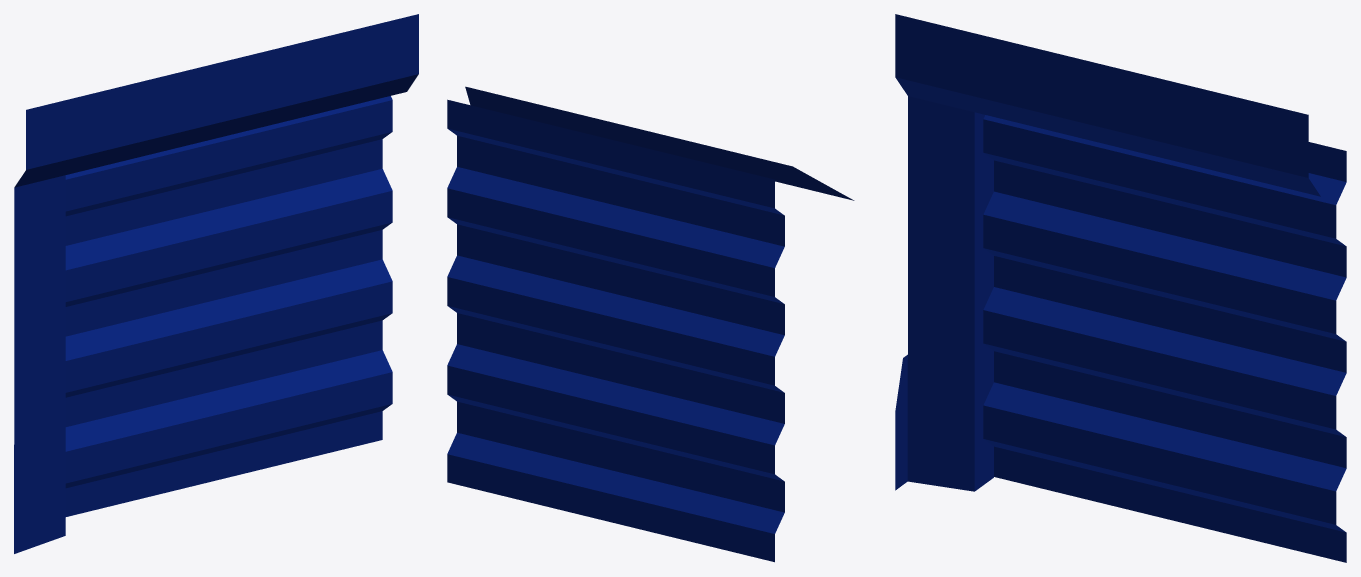
The model's file is mesh_BuildingA_GarageUpperLeft_v2.fbx.
3 renders of one model, left to right at view 1: azimuth 30°, elevation 25°; view 2: azimuth 150°, elevation 25°; view 3: azimuth 330°, elevation 25°, orthographic. The views are drawn at different scales.
Visible parts, largest first — view 1: mesh_BuildingA_GarageUpperLeft; view 2: mesh_BuildingA_GarageUpperLeft; view 3: mesh_BuildingA_GarageUpperLeft.
Part boxes in pixels (x1,y1,x2,y2): mesh_BuildingA_GarageUpperLeft: [14, 14, 418, 553]; mesh_BuildingA_GarageUpperLeft: [447, 86, 854, 562]; mesh_BuildingA_GarageUpperLeft: [895, 14, 1346, 562].
Size of the model in its own units: 182 by 200 by 29.06.
